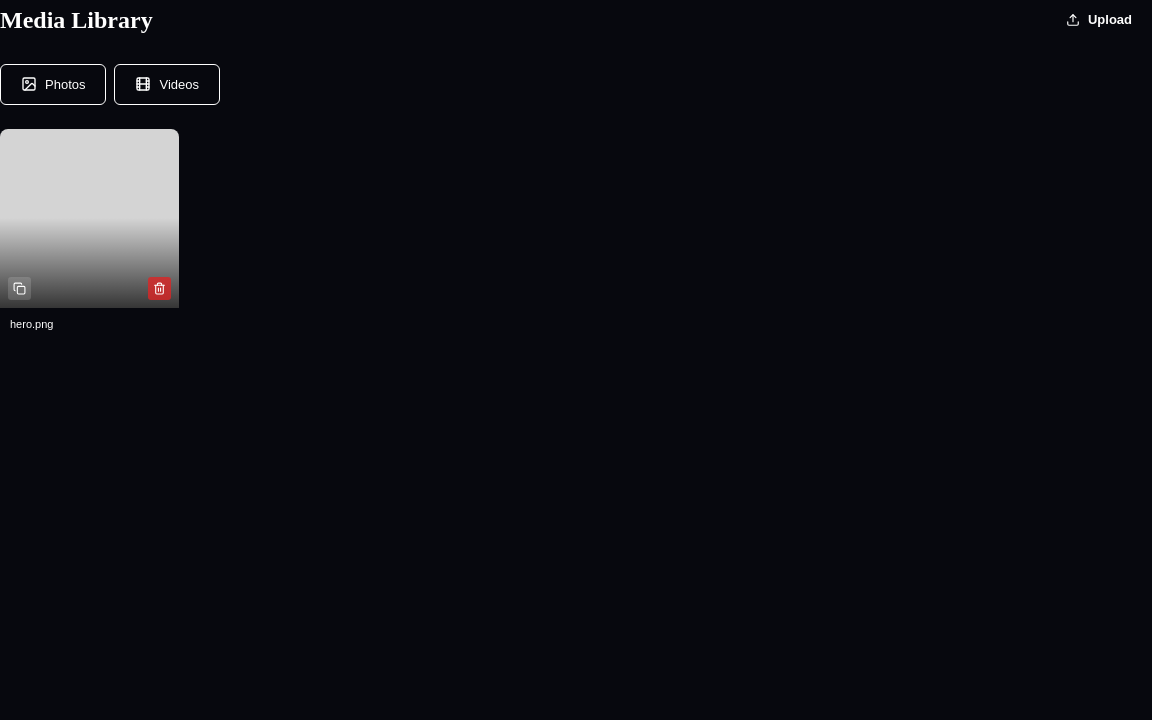
it: MediaLibrary delete › names the pages using the file and requires a second confirmation
Later steps or results of the test are not shown.
Click the button named "Delete hero.png": (159, 288) [148,277,171,300]
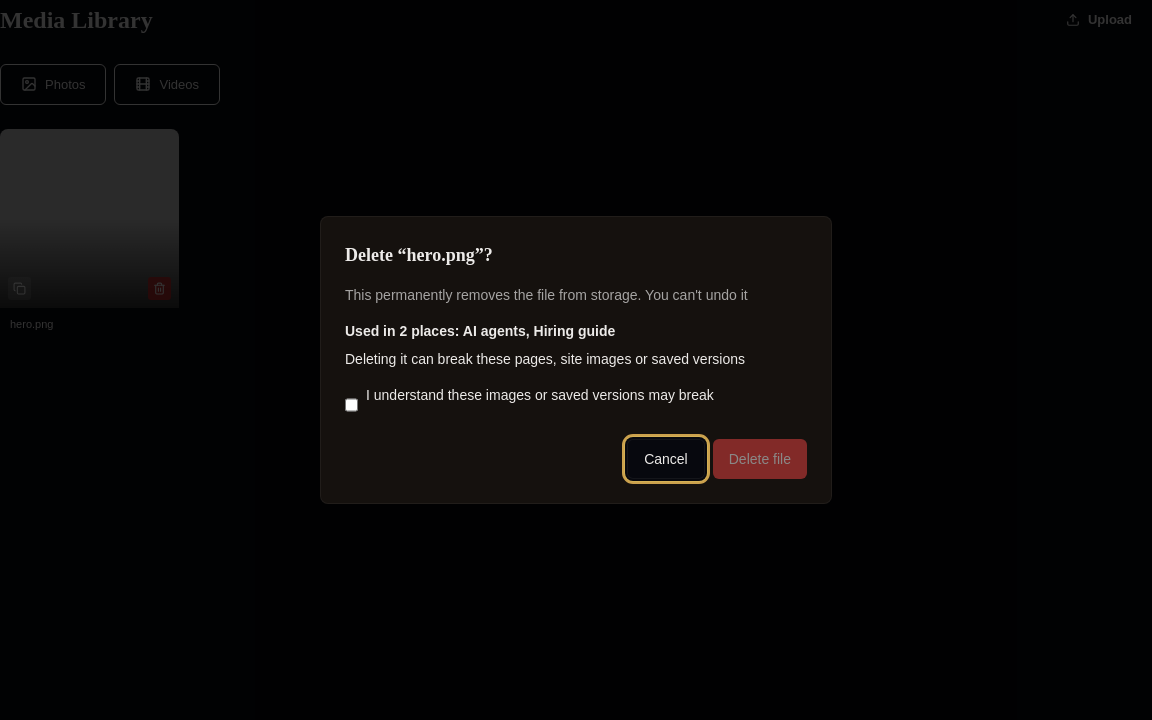
Expected: the text "Used in 2 places: AI agents, Hiring guide" is shown, [345,323,615,339]
Expected: the button "Delete file" is disabled
Click the button "Delete file": (760, 459) [713,439,807,479]
Click the checkbox: (352, 405) [345,387,358,423]
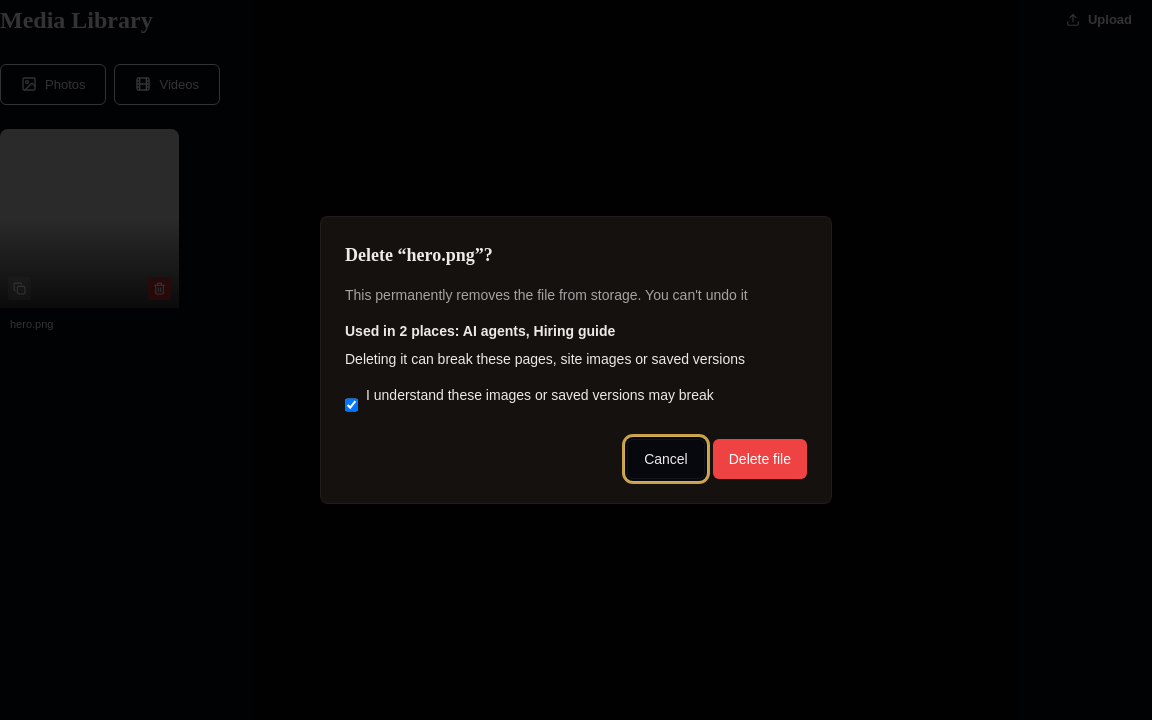
Expected: the button "Delete file" is enabled, [713,439,807,479]
